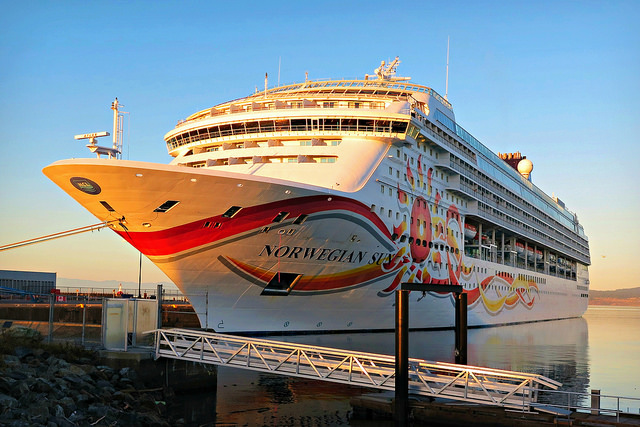cruise_ship: (42, 48, 596, 328)
